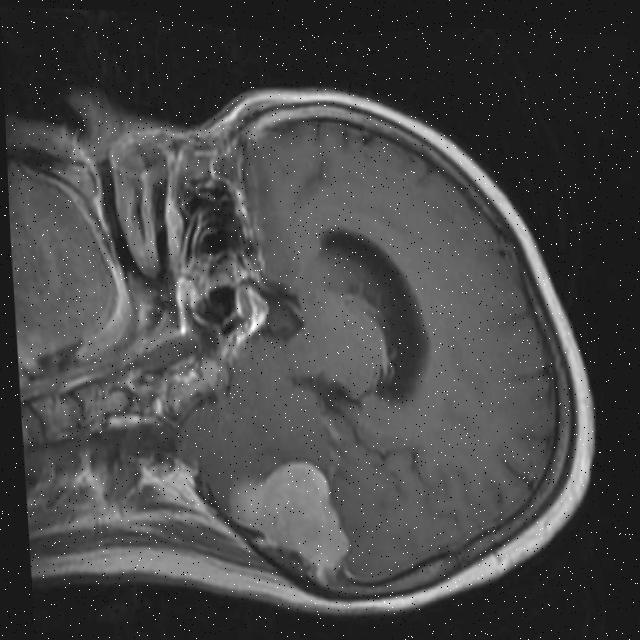Meningioma: (224, 456, 353, 575)
Pituitary: (242, 284, 271, 337)
